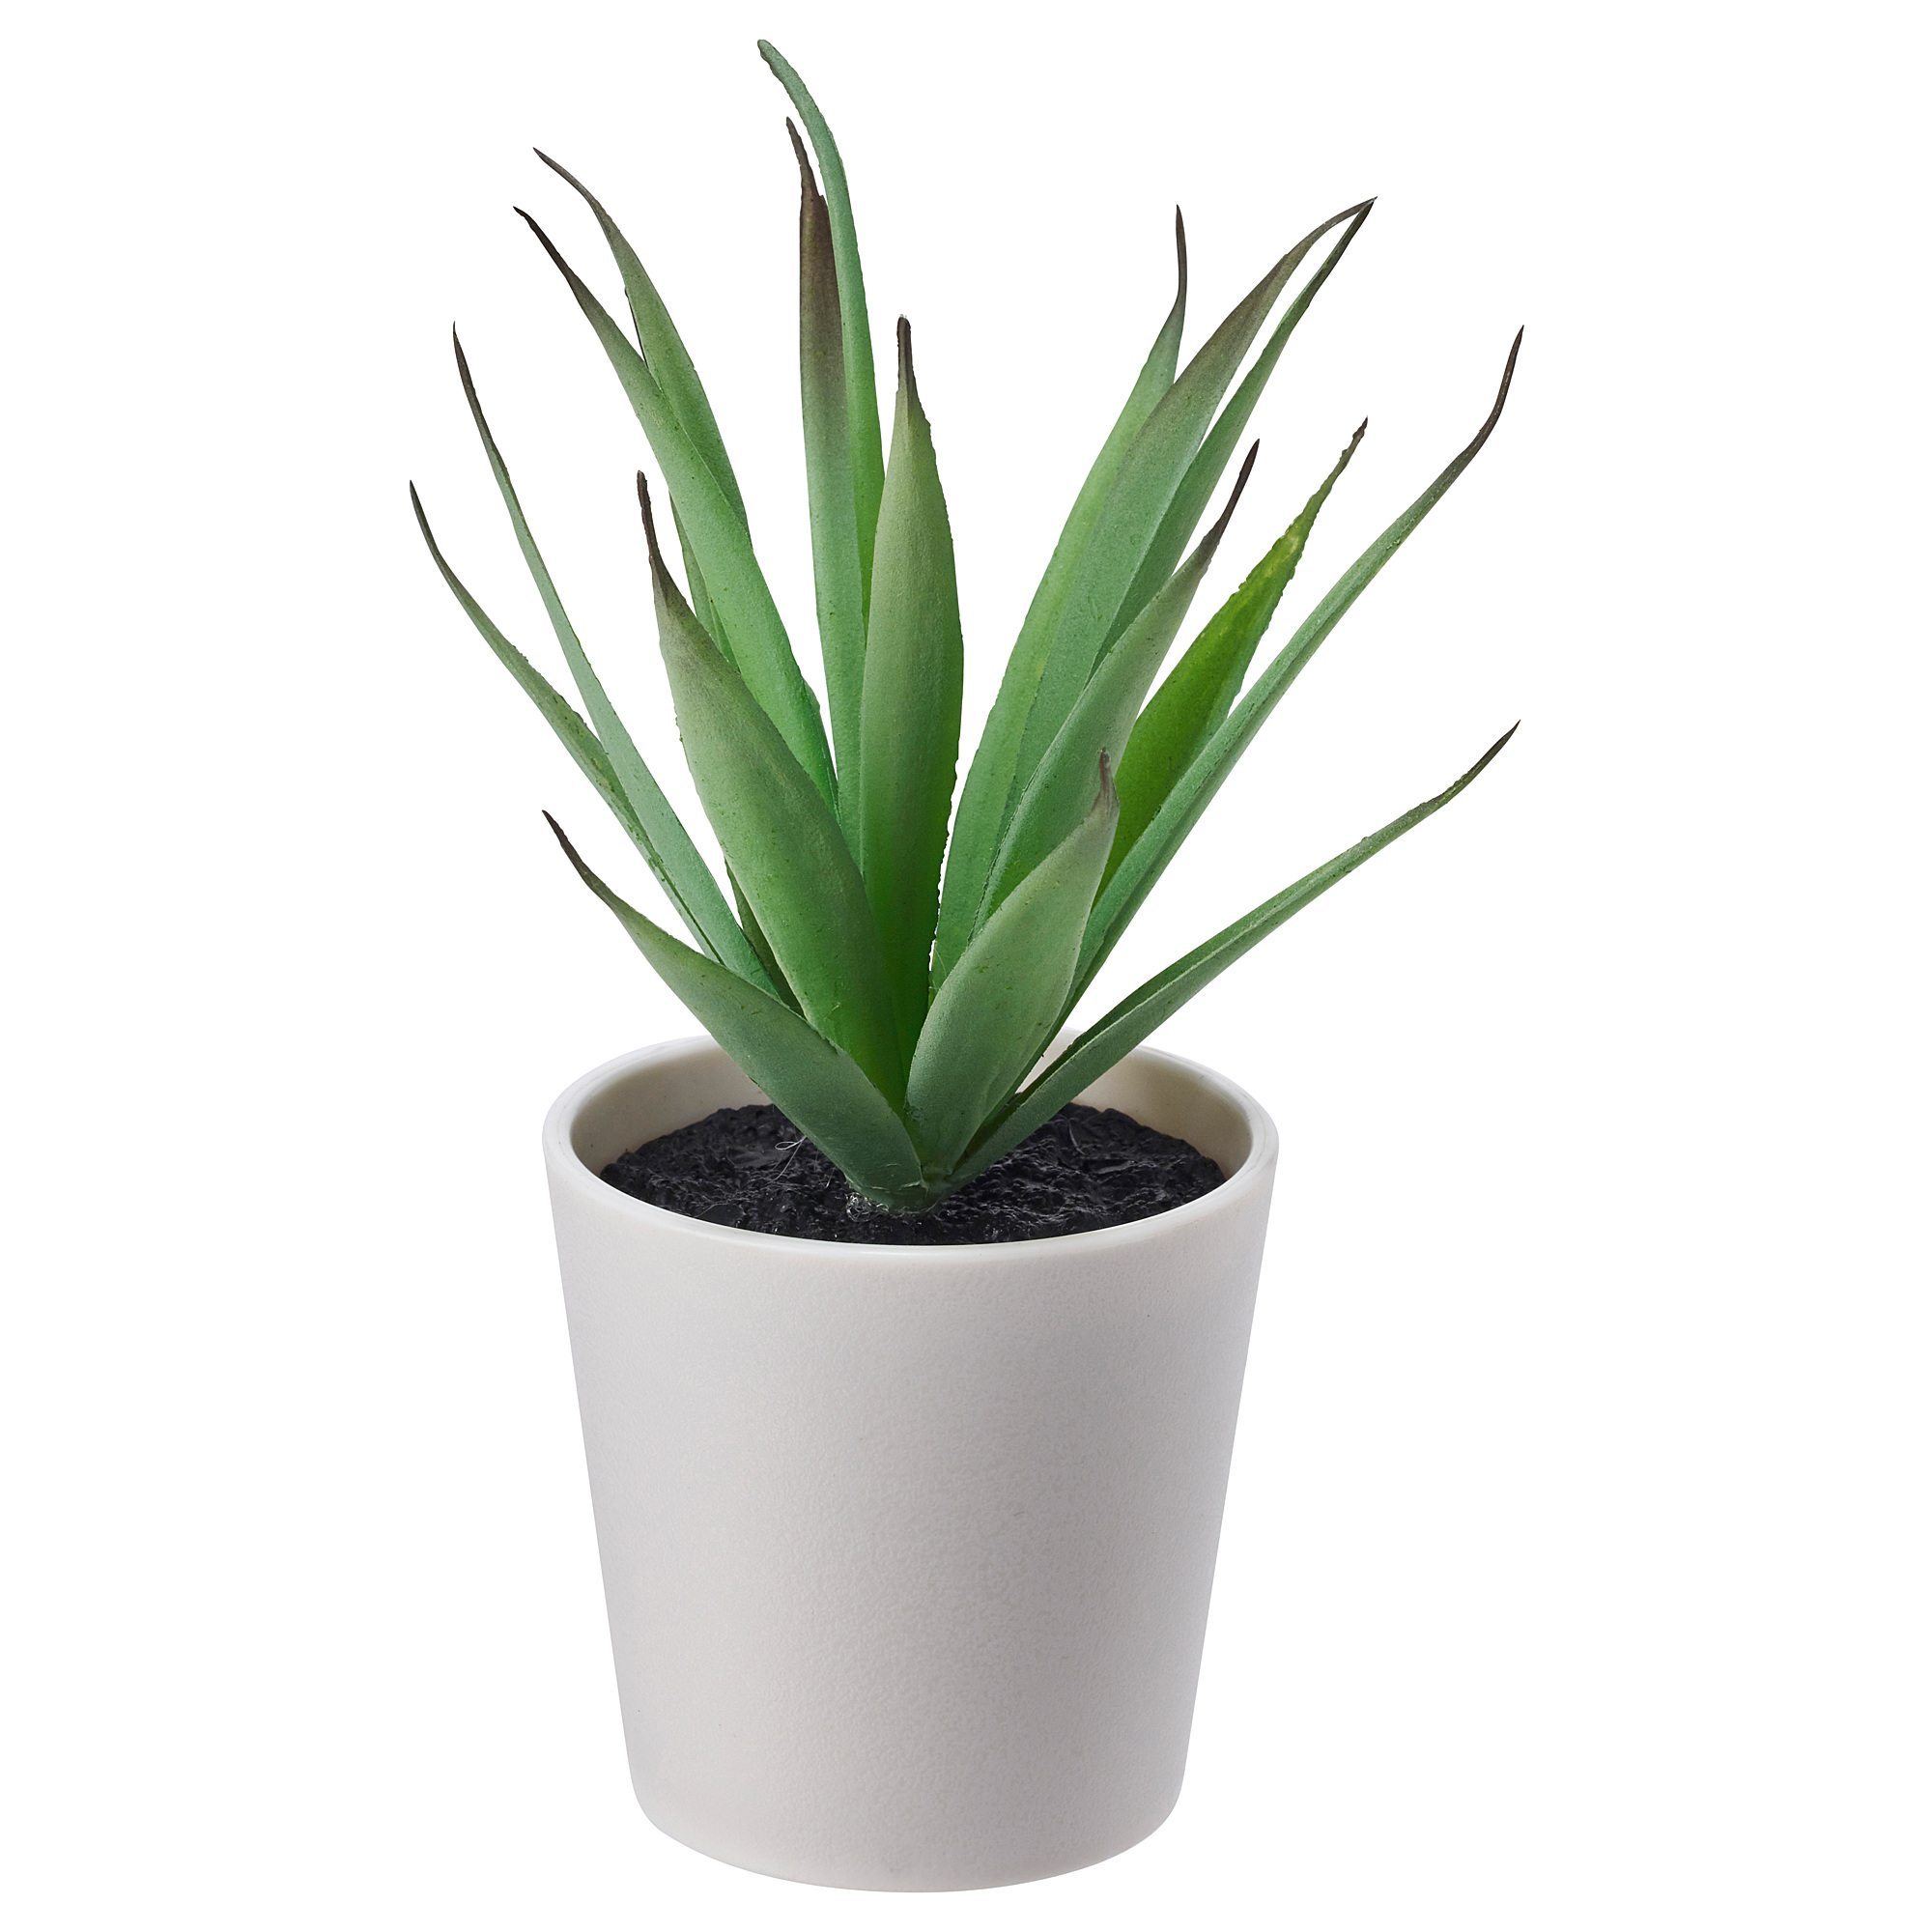tanaman: (403, 30, 1518, 1930)
